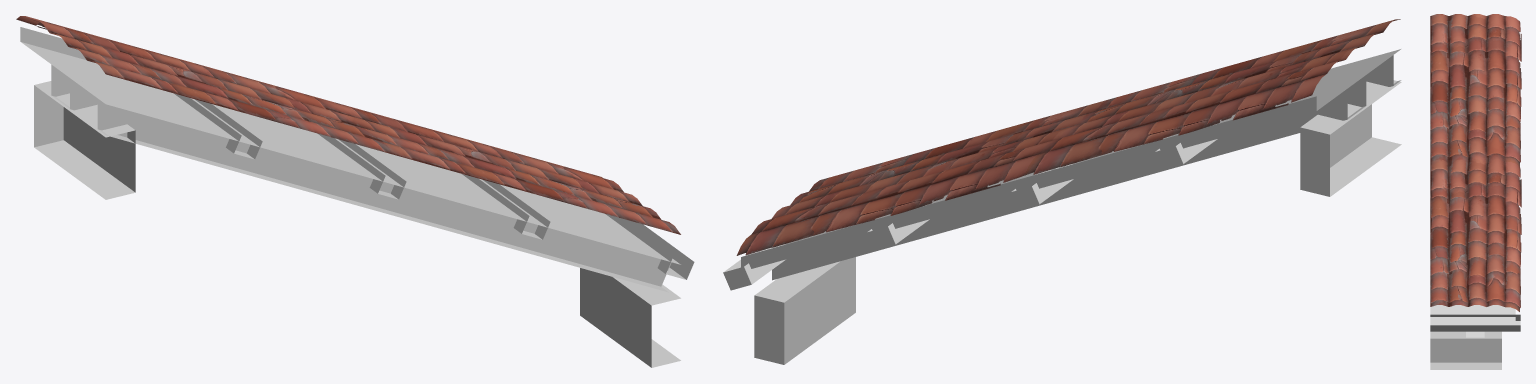
Rendered from WallKit_Verge_Left_LOD0.fbx.
3 renders of one model, left to right at view 1: azimuth 30°, elevation 25°; view 2: azimuth 150°, elevation 25°; view 3: azimuth 270°, elevation 25°, orthographic. The views are drawn at different scales.
Visible parts, largest first — view 1: WallKit_Verge_Left_LOD0; view 2: WallKit_Verge_Left_LOD0; view 3: WallKit_Verge_Left_LOD0.
Part boxes in pixels (x1,y1,x2,y2): WallKit_Verge_Left_LOD0: (16, 16, 694, 367); WallKit_Verge_Left_LOD0: (723, 19, 1401, 364); WallKit_Verge_Left_LOD0: (1430, 14, 1521, 369).
Bounding box in the file's own units: 409 × 286 × 110.
